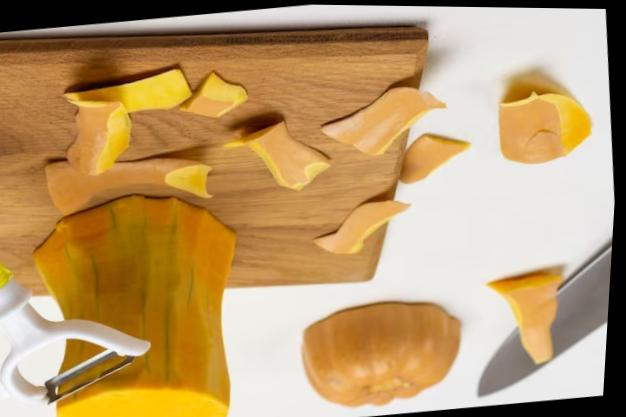organic: (34, 165, 235, 416), (302, 303, 460, 406), (46, 159, 210, 215), (499, 71, 591, 163), (323, 87, 445, 155), (488, 266, 563, 365), (225, 121, 329, 190), (47, 91, 130, 175), (57, 376, 227, 416), (65, 69, 191, 112), (314, 201, 408, 254), (400, 134, 469, 183), (180, 72, 247, 117), (165, 160, 211, 198)
